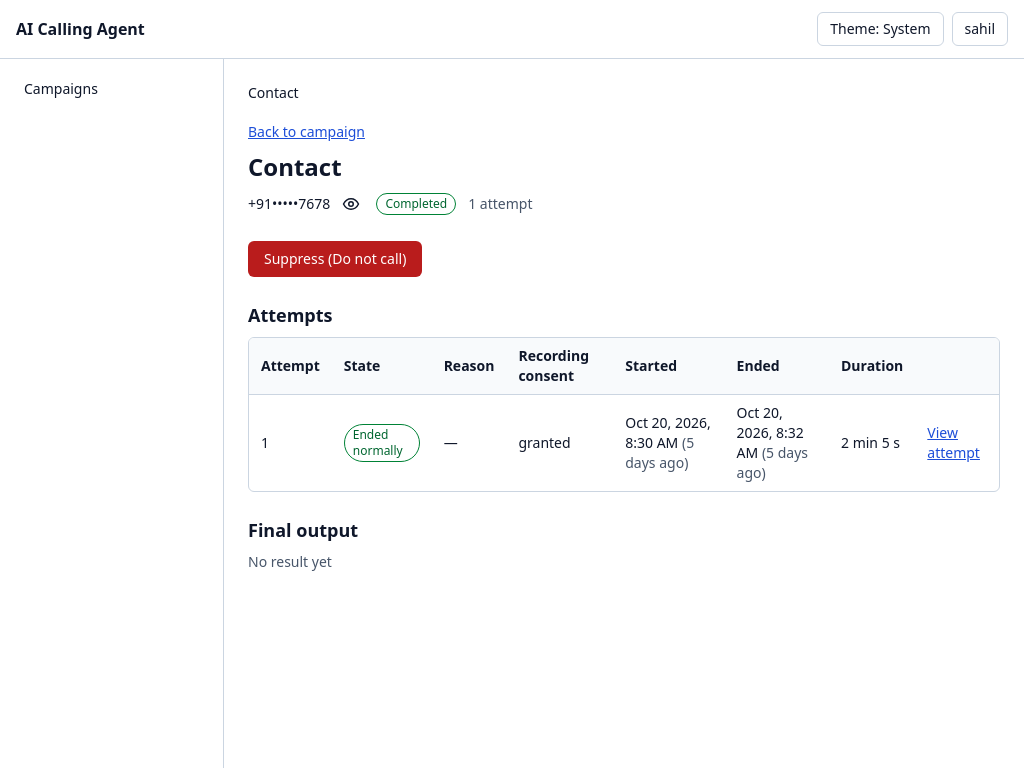
Scenario: suppression › 200 (already suppressed) is handled like a success
This screenshot has width=1024, height=768.
Step 1. Click the button "Suppress (Do not call)" → click(335, 259), box [248,241,422,277]
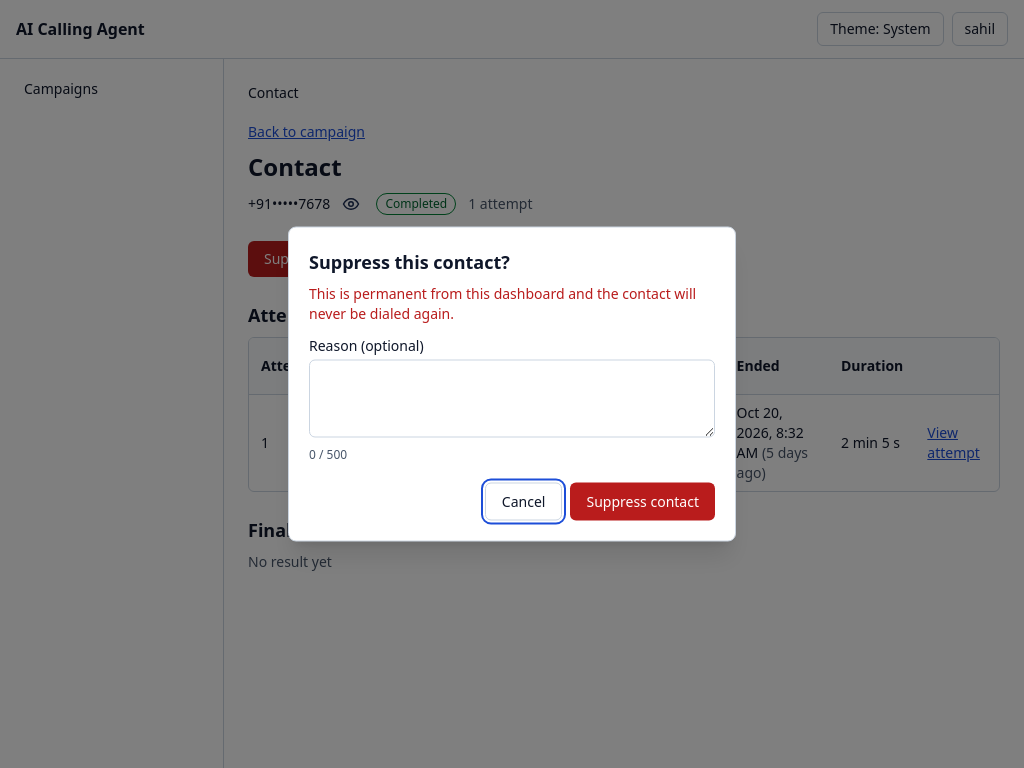
Step 2. Click the button "Suppress contact" → click(643, 502), box [570,482,715,520]
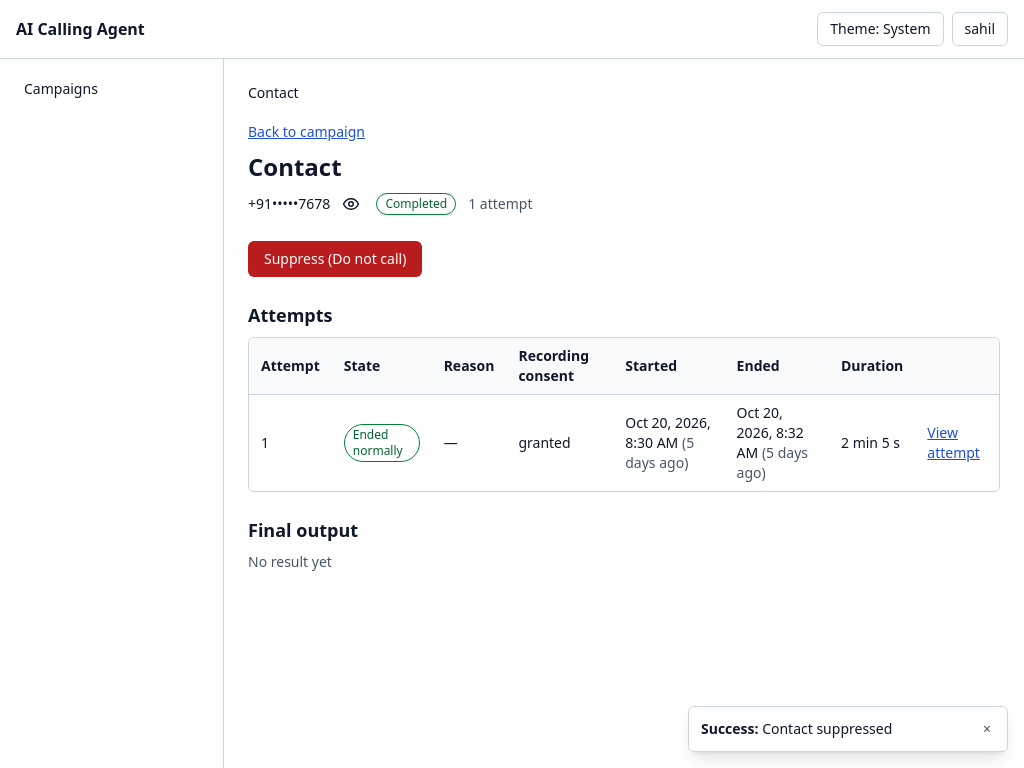
Now the text "Contact suppressed" is shown, box [762,719,892,738]
Now the dialog is gone
